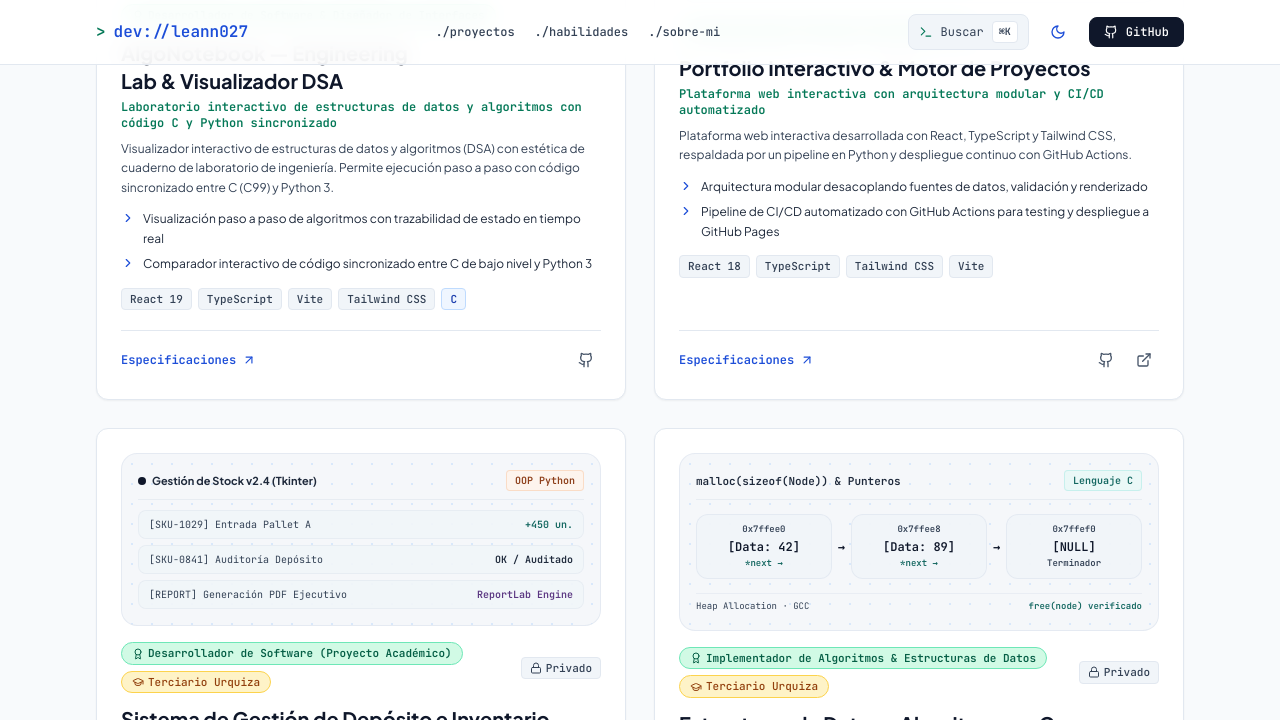
Test case: Interactive Portfolio UI (Pure Visualization) › opens and closes project details modal via button click
(page scrolled)
Click the button with test id "btn-details-portfolio-hub" at (747, 360), box x1=679 y1=352 x2=814 y2=368
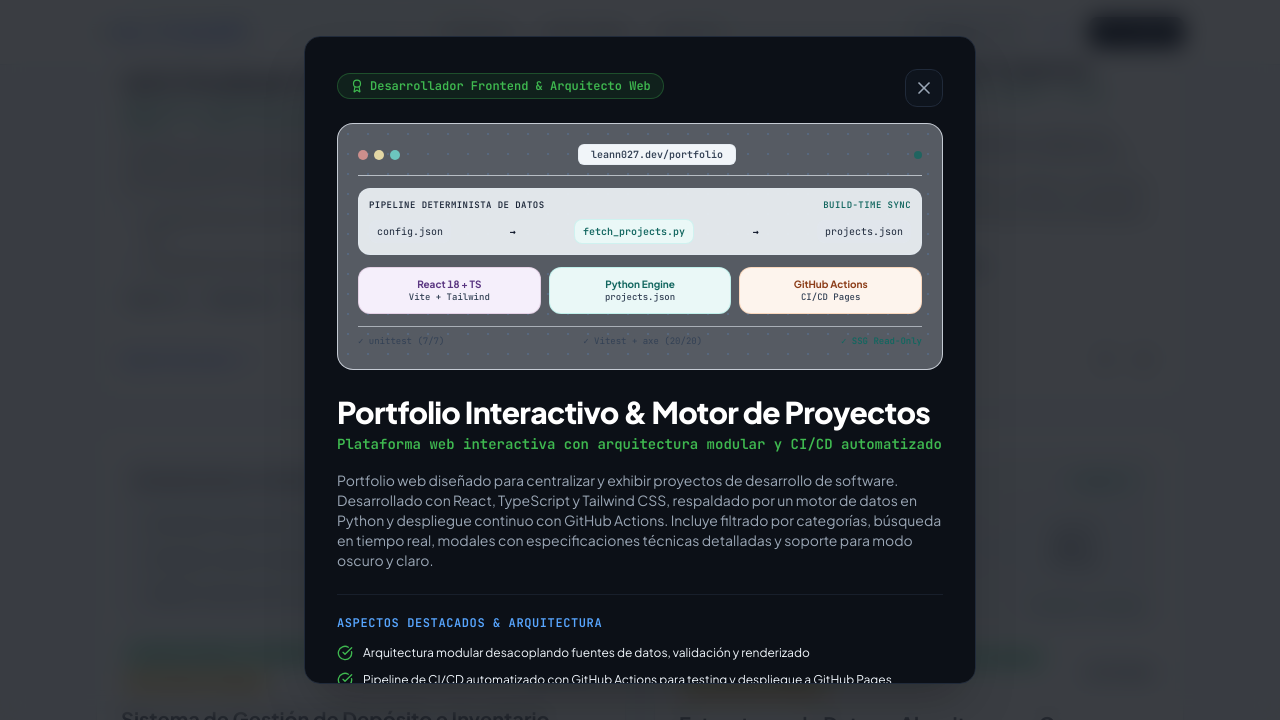
Check: the dialog is shown
Check: the heading "Aspectos Destacados & Arquitectura" is shown, box x1=337 y1=615 x2=602 y2=631
Close modal
Click the button named "Cerrar modal" at (924, 88), box x1=905 y1=69 x2=943 y2=107
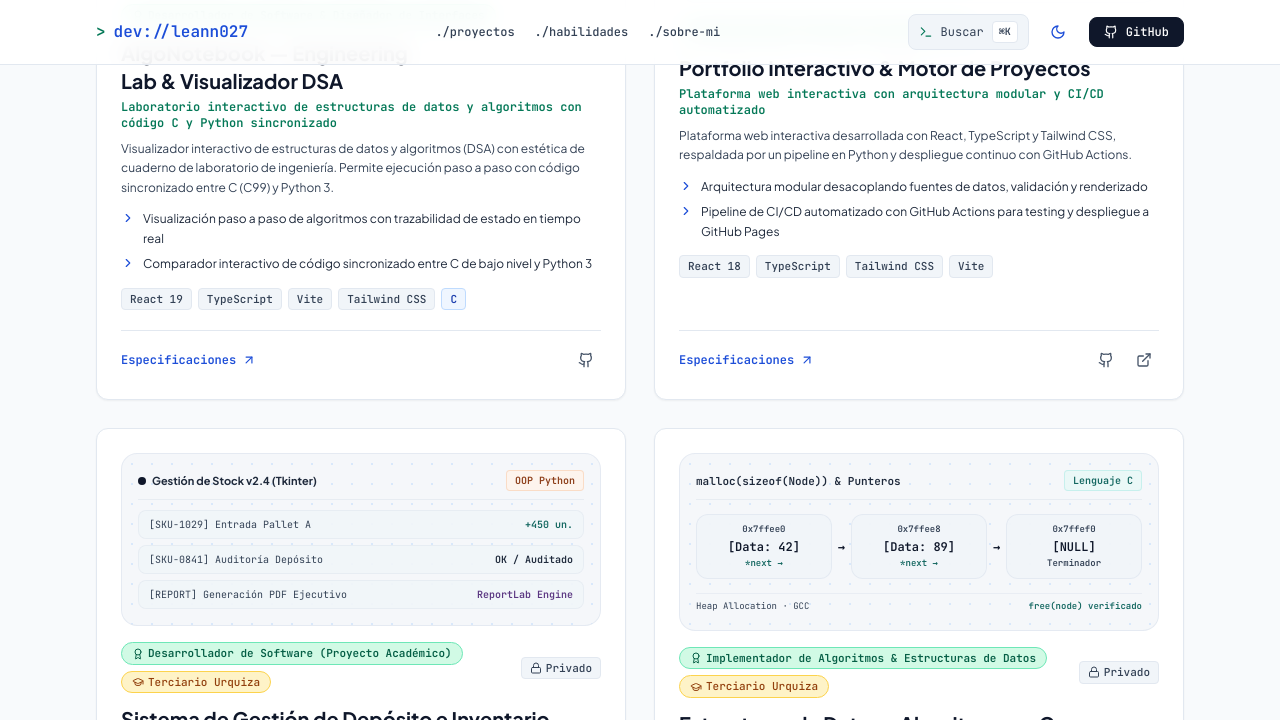
Check: the dialog is gone
